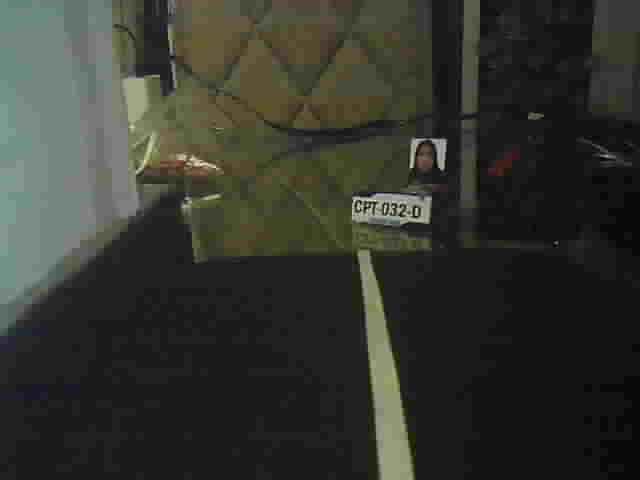PLACA: (350, 189, 433, 231)
ROSTRO: (410, 138, 444, 185)
